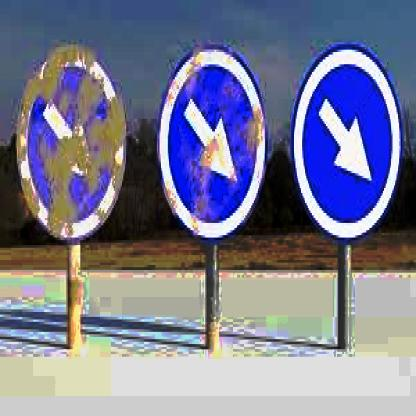Keep right: (289, 41, 403, 250), (17, 42, 127, 243), (157, 42, 266, 240)
